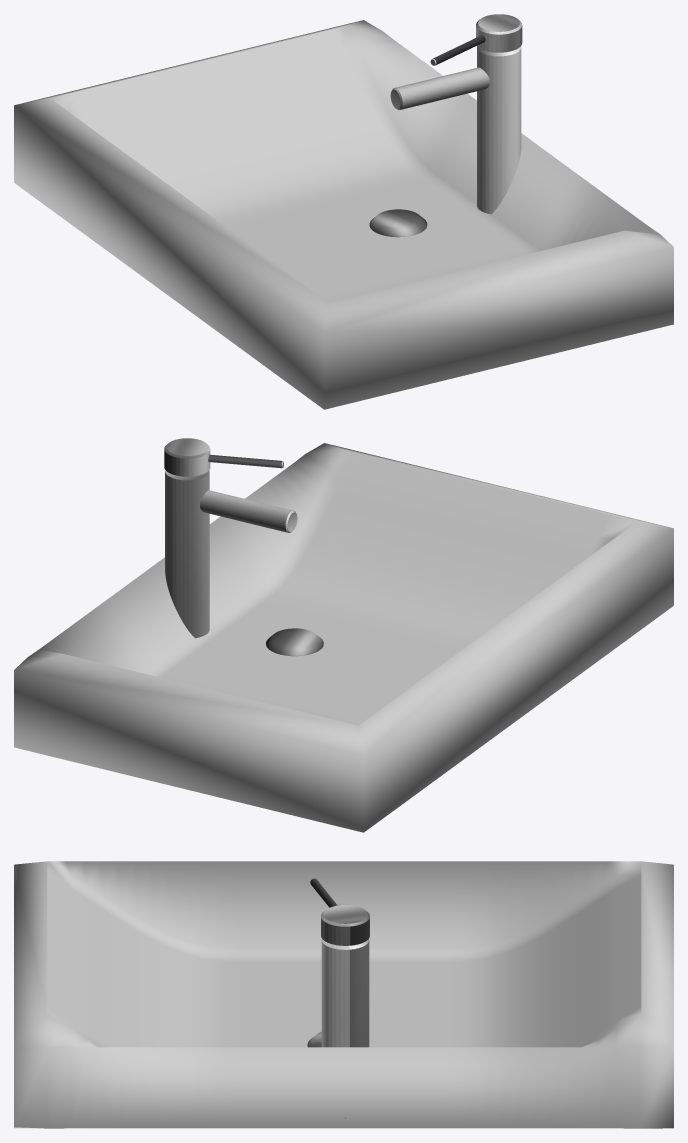
The model's file is Sink.fbx.
3 renders of one model, top to bottom at view 1: azimuth 30°, elevation 25°; view 2: azimuth 150°, elevation 25°; view 3: azimuth 270°, elevation 25°, orthographic. The views are drawn at different scales.
Visible parts, largest first — view 1: Sink, Wasserhahn, Thingy; view 2: Sink, Wasserhahn, Thingy; view 3: Sink, Wasserhahn.
Part boxes in pixels (left/top/right/bottom): Sink: left=14, top=20, right=673, bottom=409; Wasserhahn: left=390, top=14, right=522, bottom=214; Thingy: left=369, top=209, right=427, bottom=237; Sink: left=14, top=443, right=673, bottom=832; Wasserhahn: left=164, top=438, right=297, bottom=638; Thingy: left=266, top=628, right=323, bottom=656; Sink: left=14, top=861, right=673, bottom=1128; Wasserhahn: left=310, top=878, right=369, bottom=1118.
Bounding box in the file's own units: 63.88 × 33.22 × 97.34.
